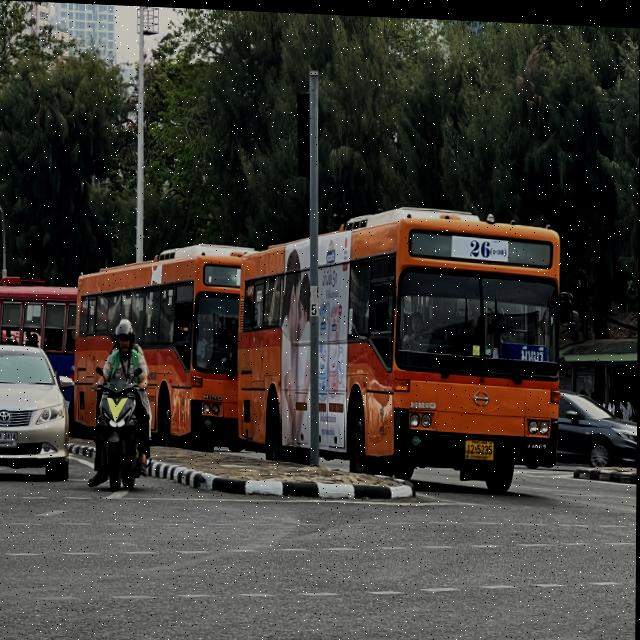BMTA-bus: (235, 191, 582, 494), (72, 228, 271, 445)
Bus Line Number: (454, 229, 510, 257)
Bus Side Number: (518, 436, 550, 450)
Destination Sign: (500, 337, 550, 358)
